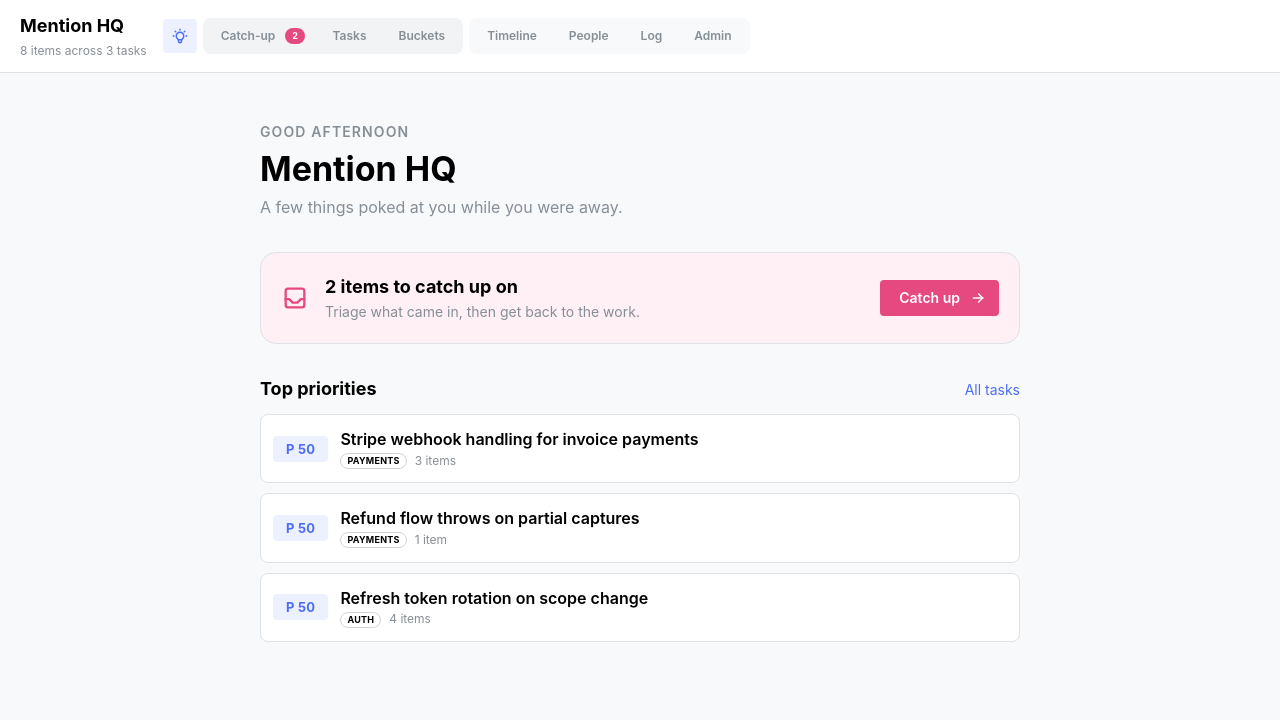
Test case: WelcomeView › shows a catch-up CTA with the count when the inbox has items
Check: the text "2 items to catch up on" is shown, box [325,276,518,297]
Click the button "Catch up".
click(940, 298)  # box [880,280,999,316]
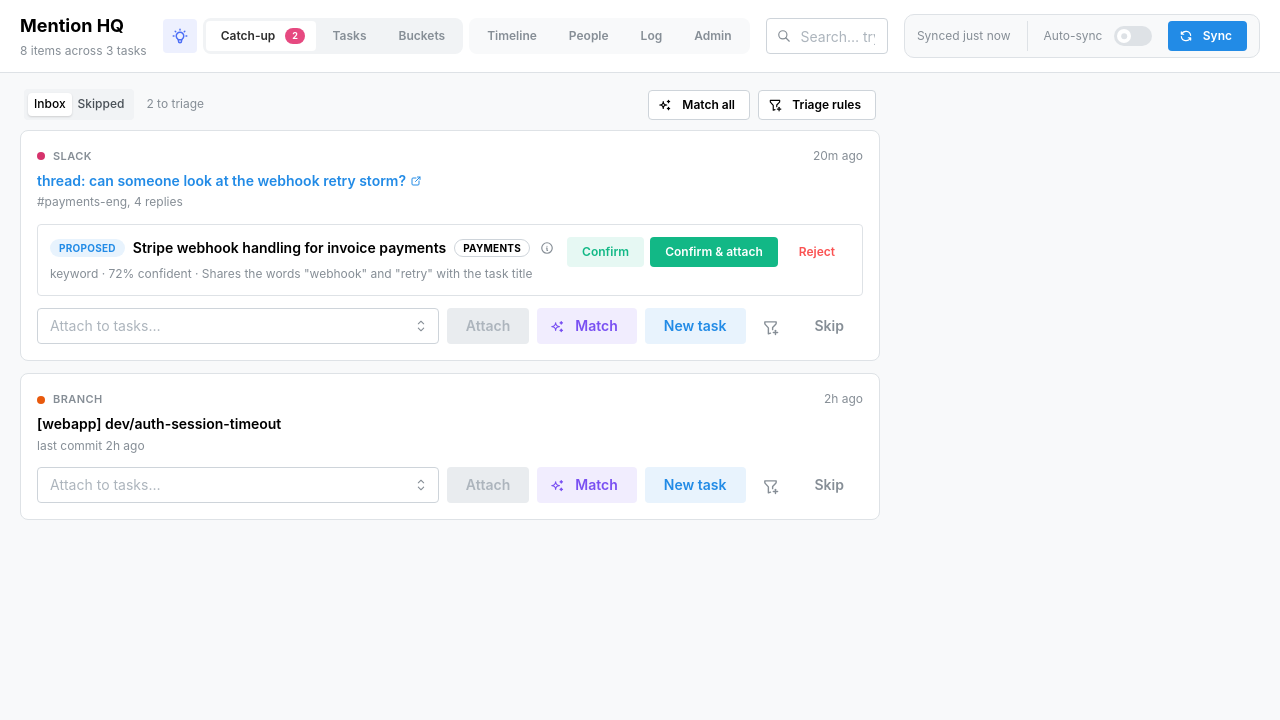
Check: the text "2 to triage" is shown, box [146,96,204,114]
